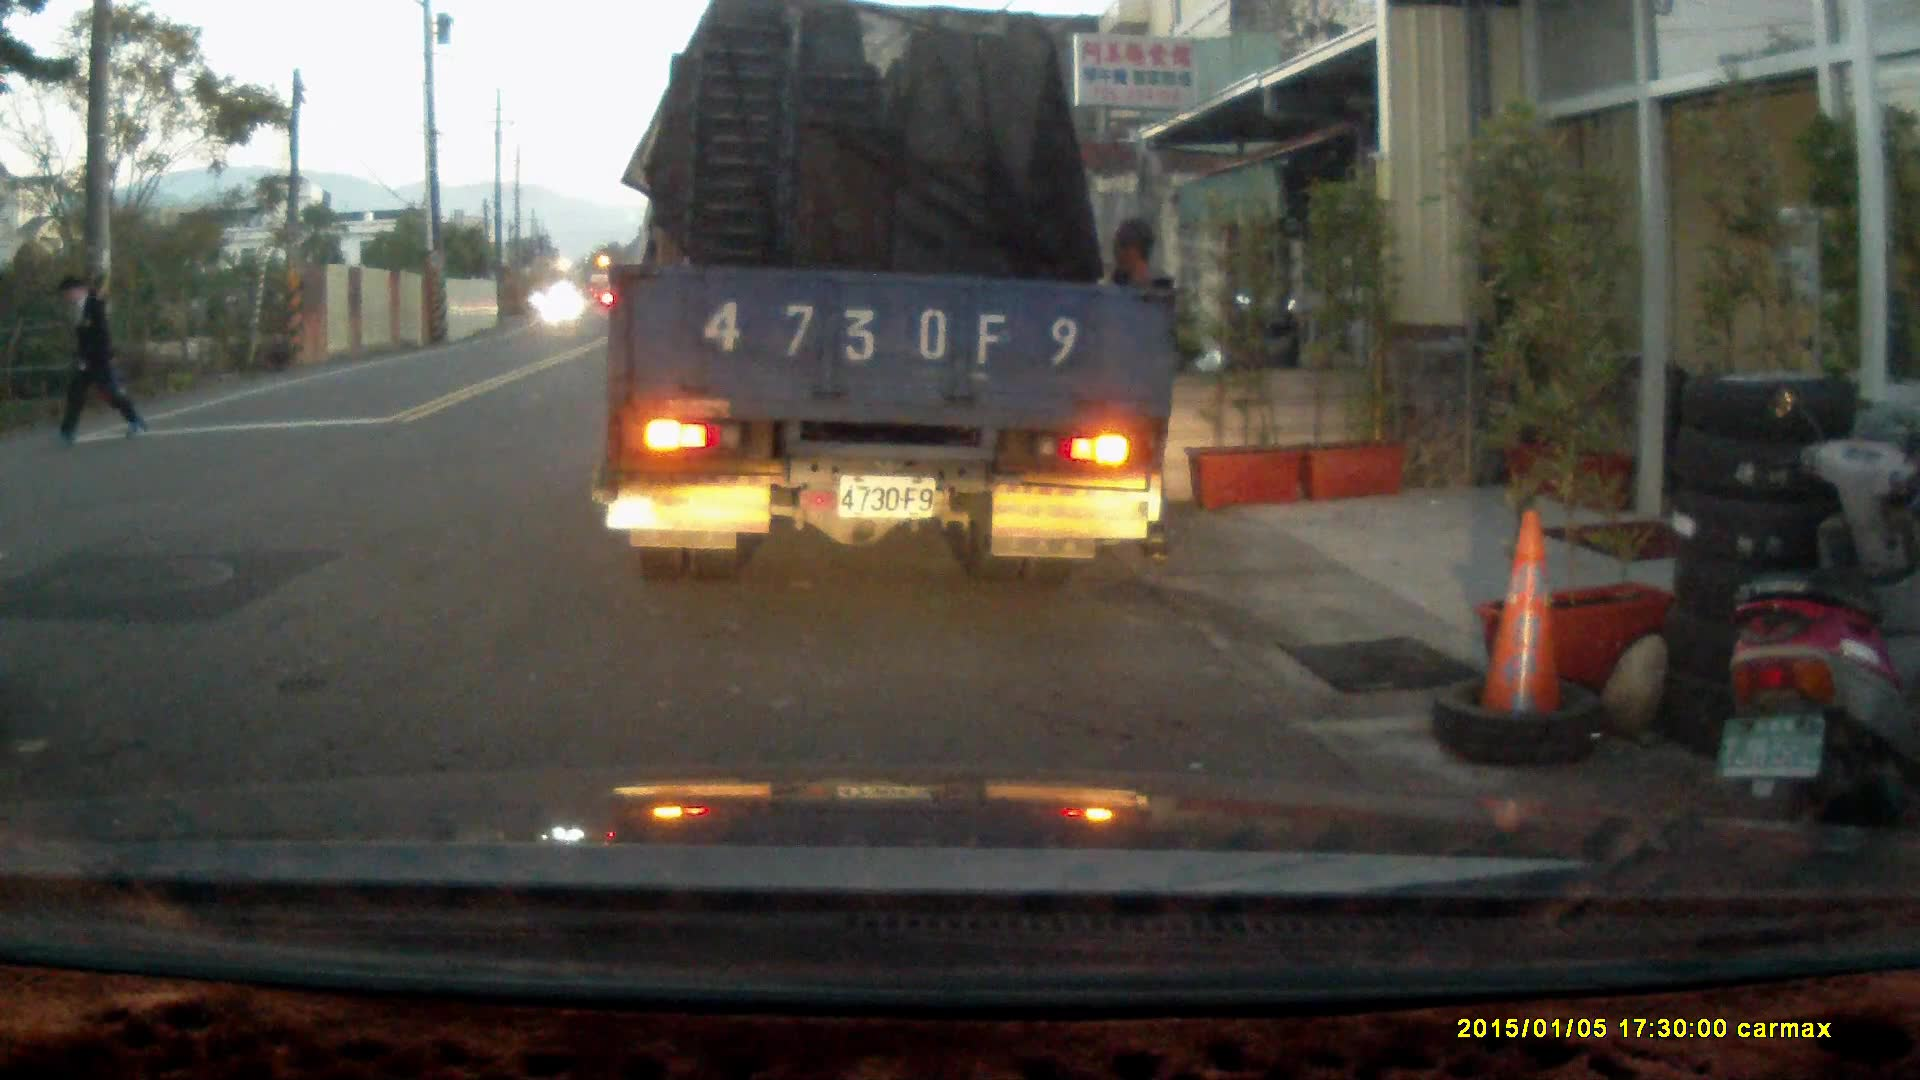pedestrian: (1088, 215, 1183, 563), (45, 274, 142, 451)
vehicle: (605, 23, 1188, 572)
